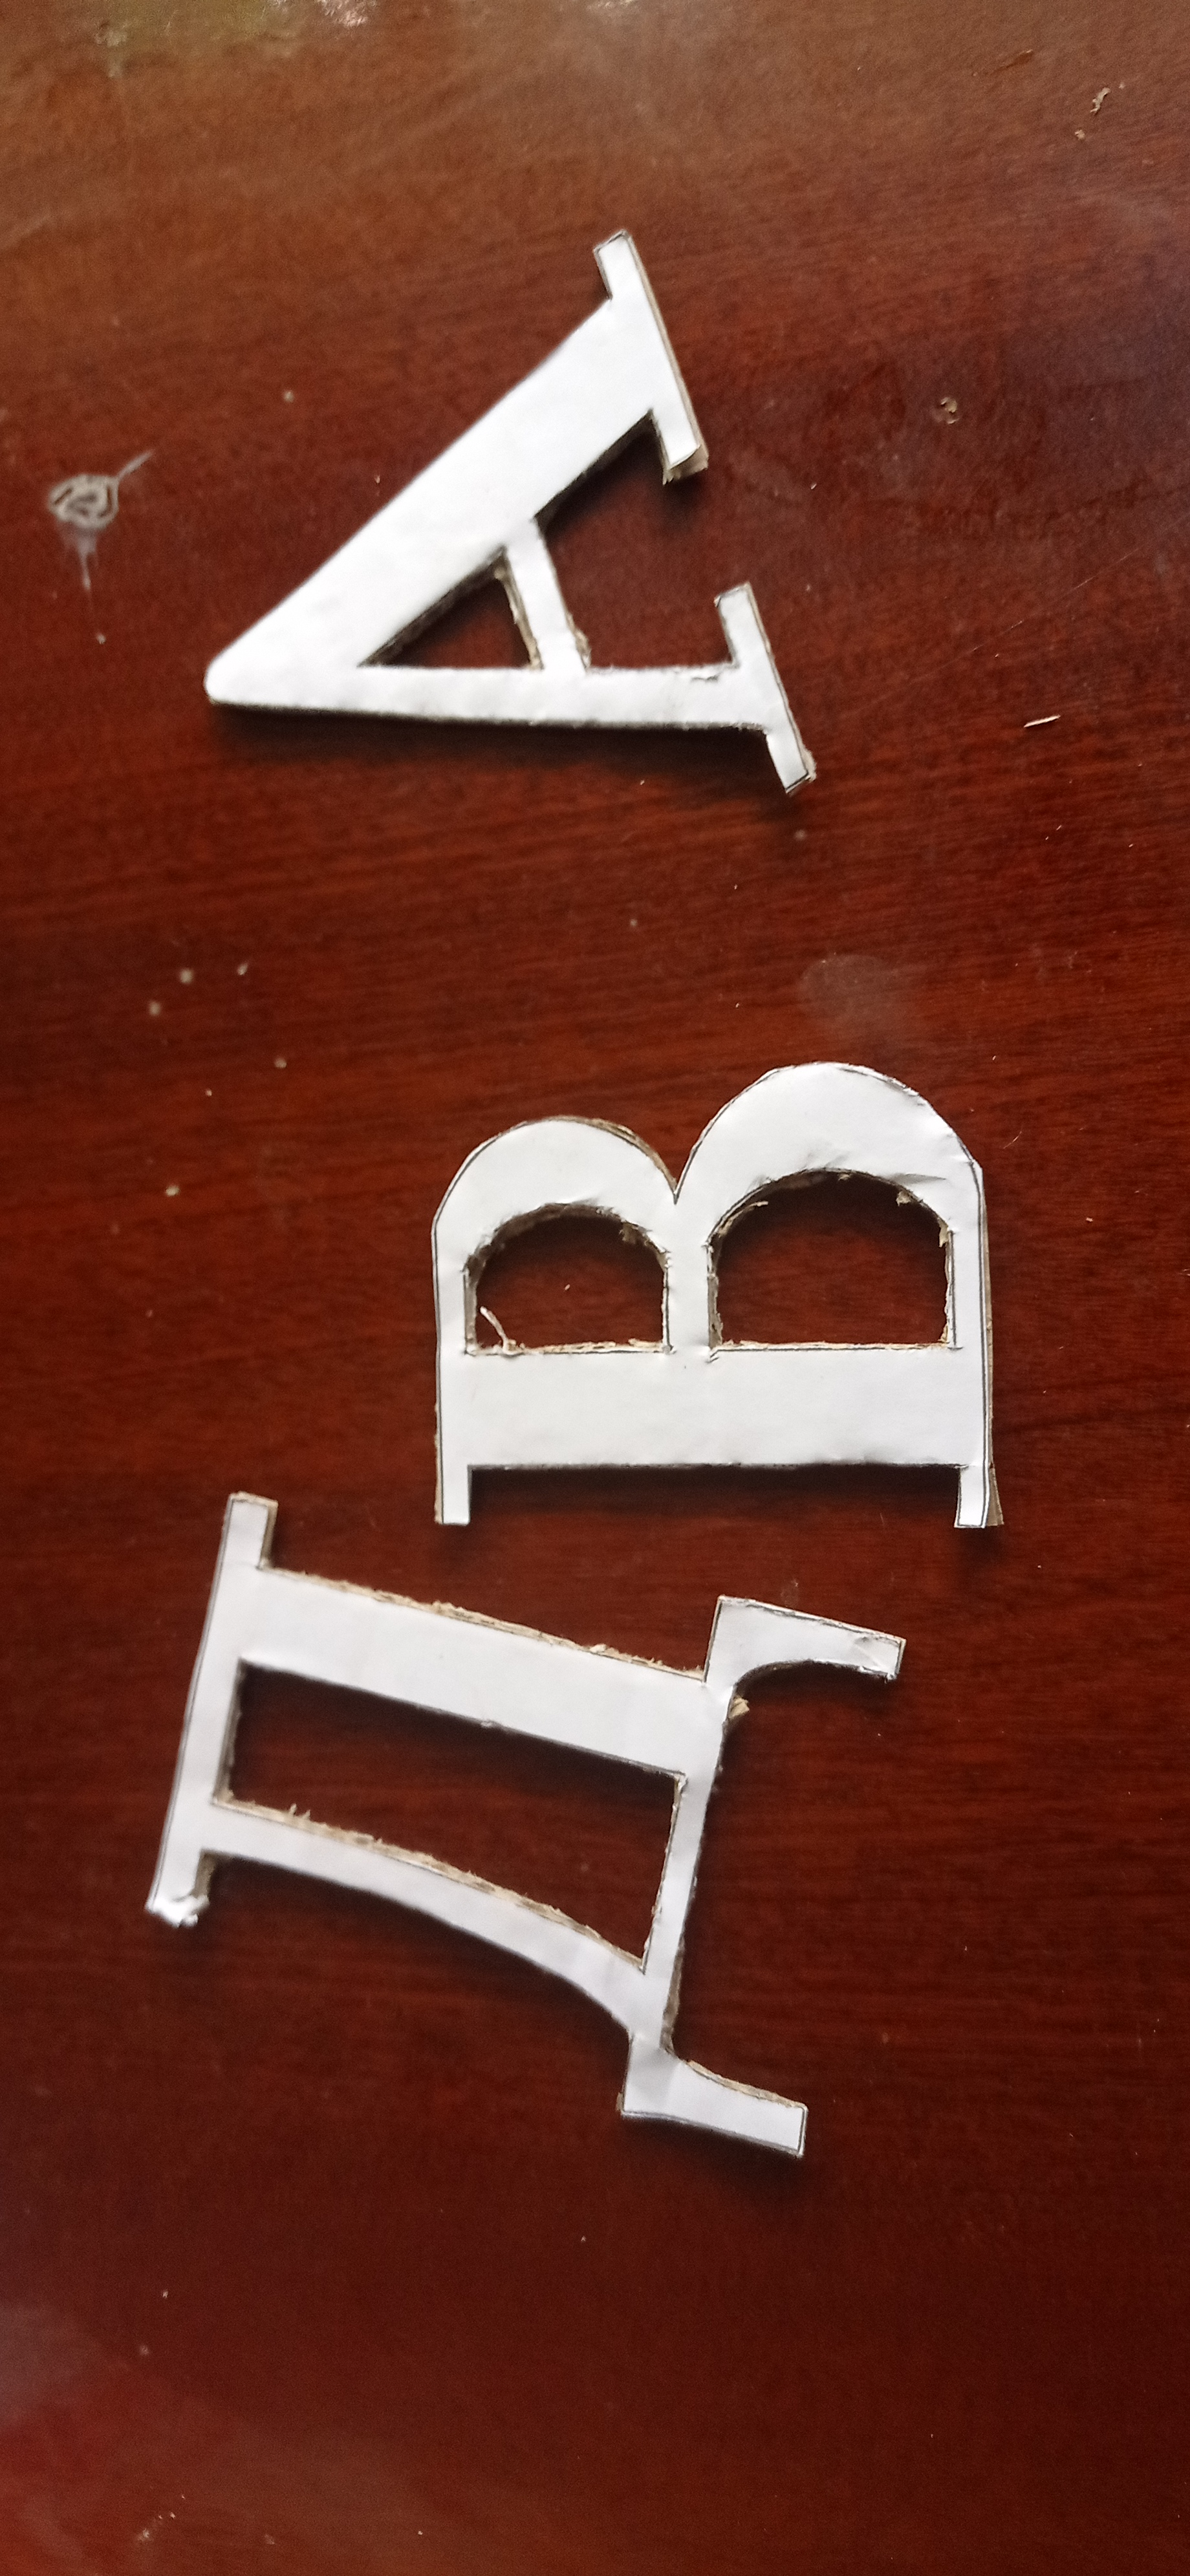a: (197, 219, 823, 802)
d: (150, 1490, 909, 2173)
v: (431, 1048, 1004, 1534)
